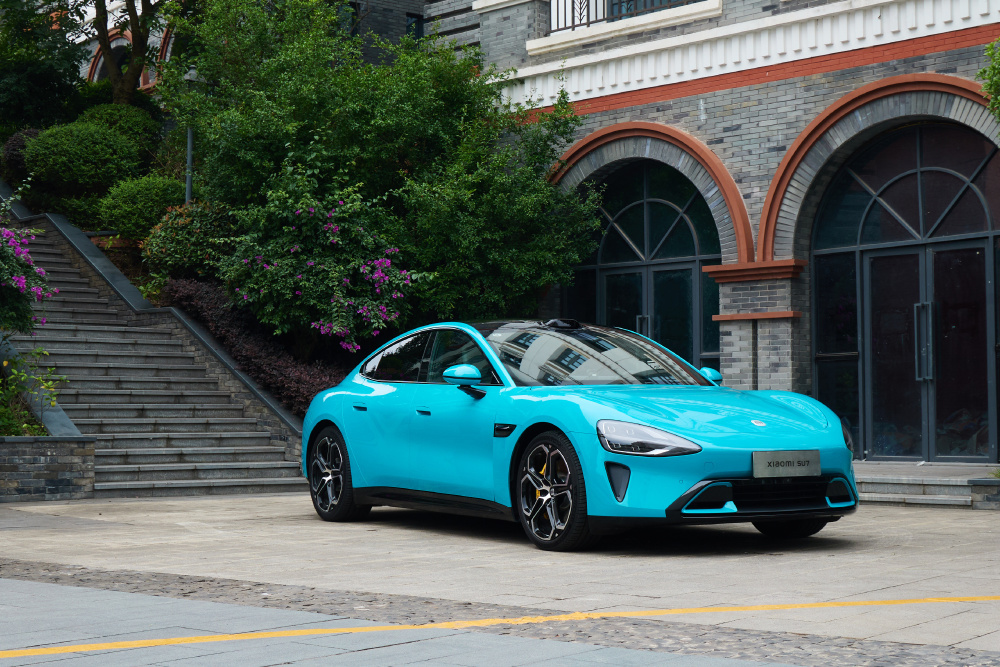su7: (297, 324, 856, 544)
